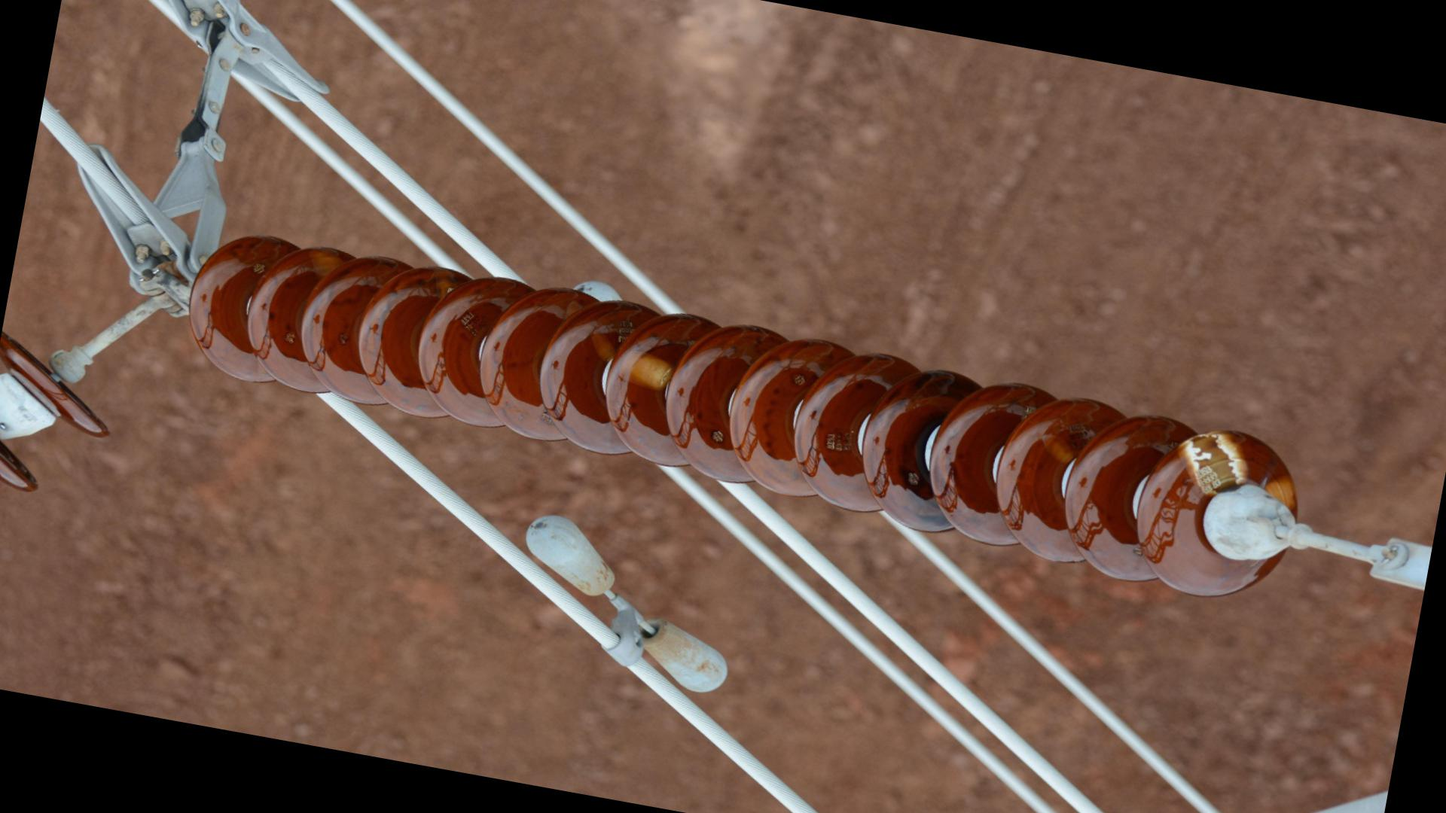damper: (498, 506, 755, 704)
